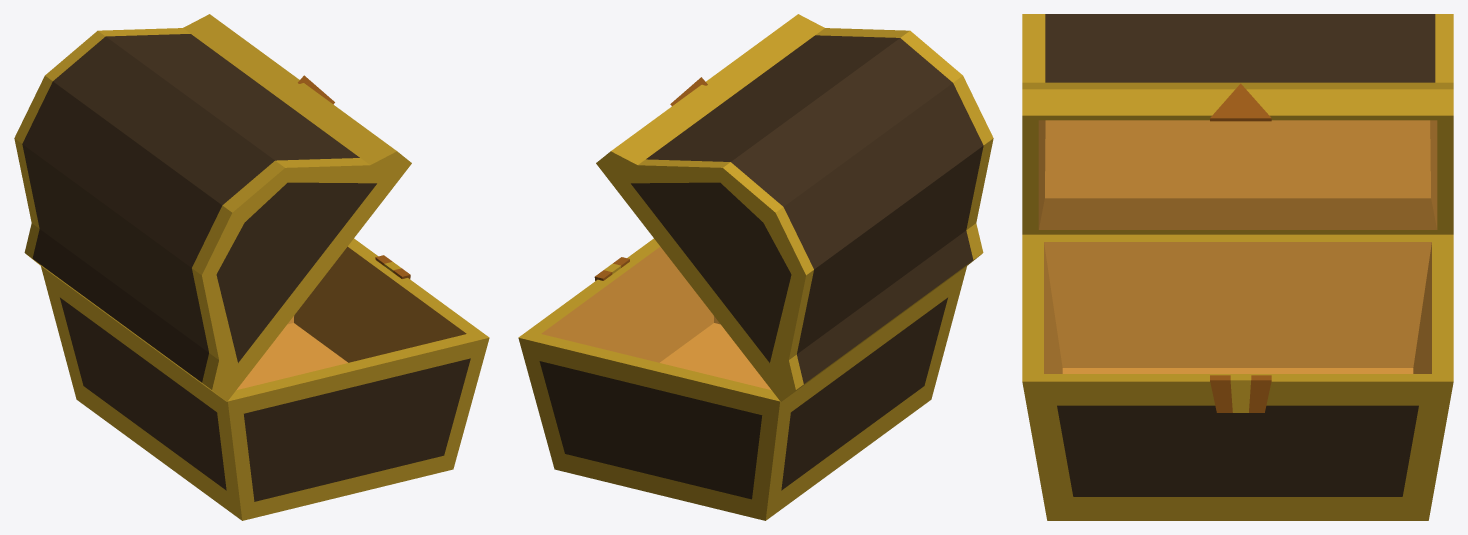
The model's file is Chest.fbx.
3 views of the same model, side by side, from view 1: azimuth 30°, elevation 25°; view 2: azimuth 150°, elevation 25°; view 3: azimuth 270°, elevation 25° (orthographic). The views are drawn at different scales.
Parts seen in each view (by area): view 1: chest_01_02, chest_01; view 2: chest_01_02, chest_01; view 3: chest_01, chest_01_02.
Boxes of the visible parts, x1,y1,x2,y2 form: chest_01_02: [14, 14, 411, 401]; chest_01: [41, 238, 489, 520]; chest_01_02: [596, 14, 993, 401]; chest_01: [518, 238, 966, 520]; chest_01: [1022, 234, 1453, 520]; chest_01_02: [1022, 14, 1453, 234].
Size of the model in its own units: 107 by 124 by 120.
